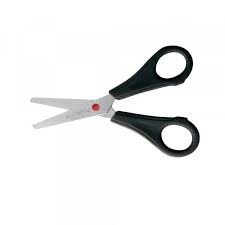tihiras: (25, 39, 204, 161)
